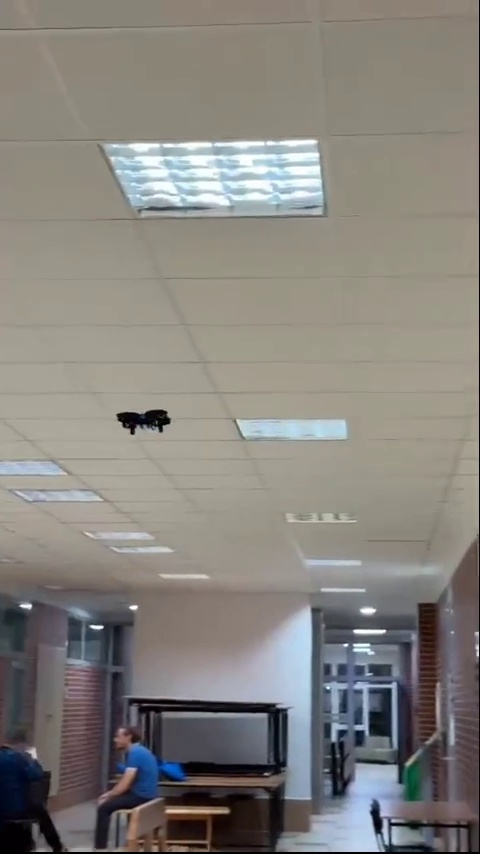drone: (116, 403, 168, 435)
no vest: (89, 719, 161, 817)
